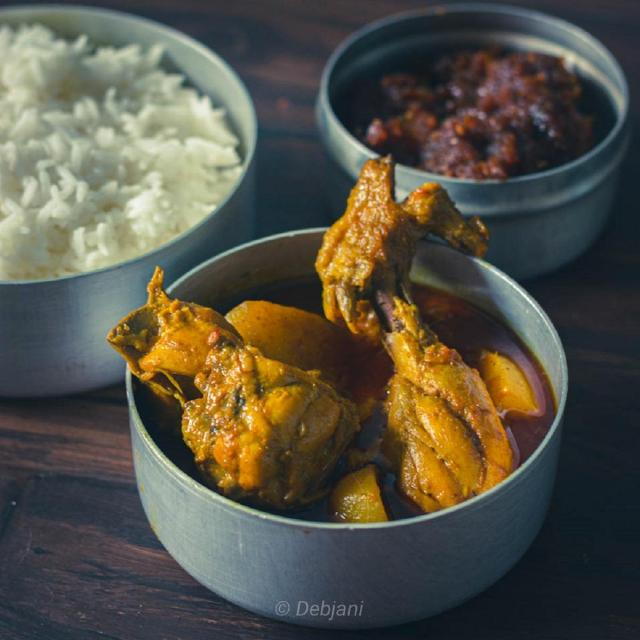chicken: (89, 165, 562, 488)
rice: (2, 8, 226, 275)
